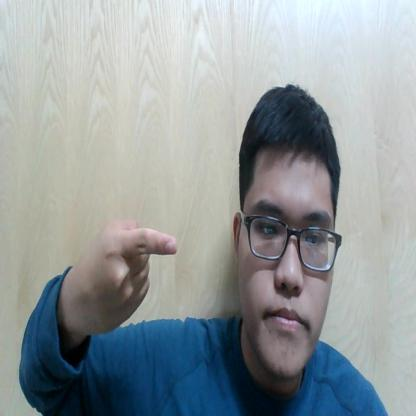left: (76, 214, 179, 335)
